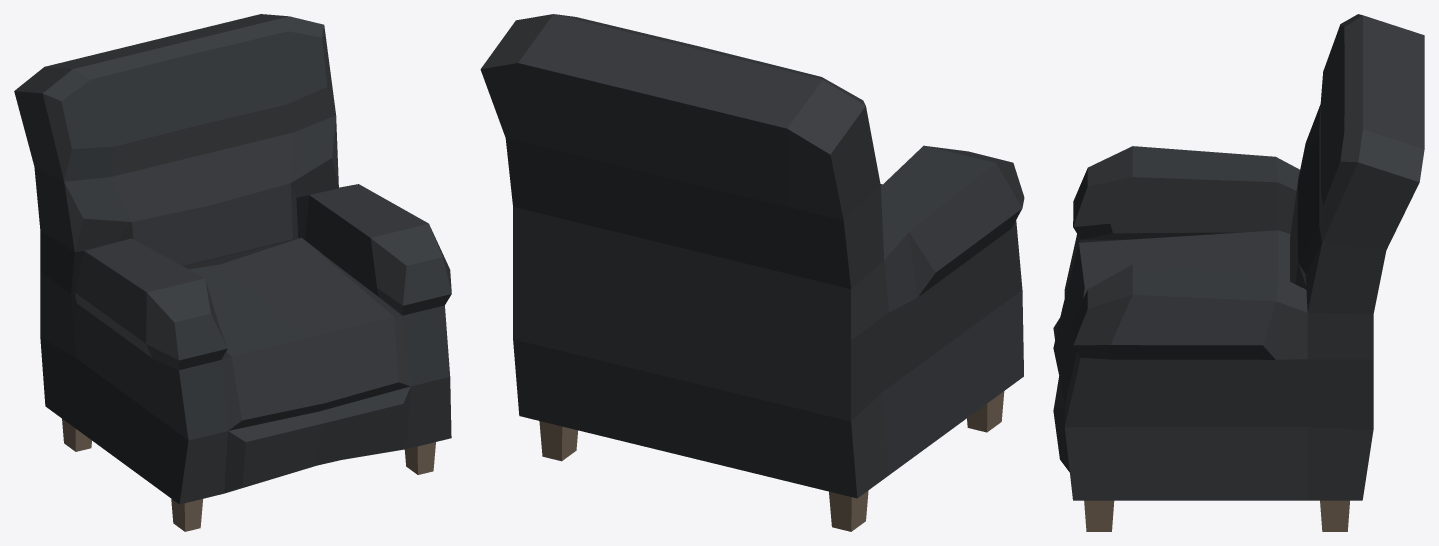
The model's file is SM_Prop_Couch_06.fbx.
3 renders of one model, left to right at view 1: azimuth 30°, elevation 25°; view 2: azimuth 150°, elevation 25°; view 3: azimuth 270°, elevation 25°, orthographic. The views are drawn at different scales.
Visible parts, largest first — view 1: SM_Prop_Couch_06; view 2: SM_Prop_Couch_06; view 3: SM_Prop_Couch_06.
Part boxes in pixels (x1,y1,x2,y2): SM_Prop_Couch_06: [14, 14, 451, 531]; SM_Prop_Couch_06: [480, 14, 1024, 531]; SM_Prop_Couch_06: [1053, 14, 1424, 531].
Size of the model in its own units: 109 by 124 by 106.
